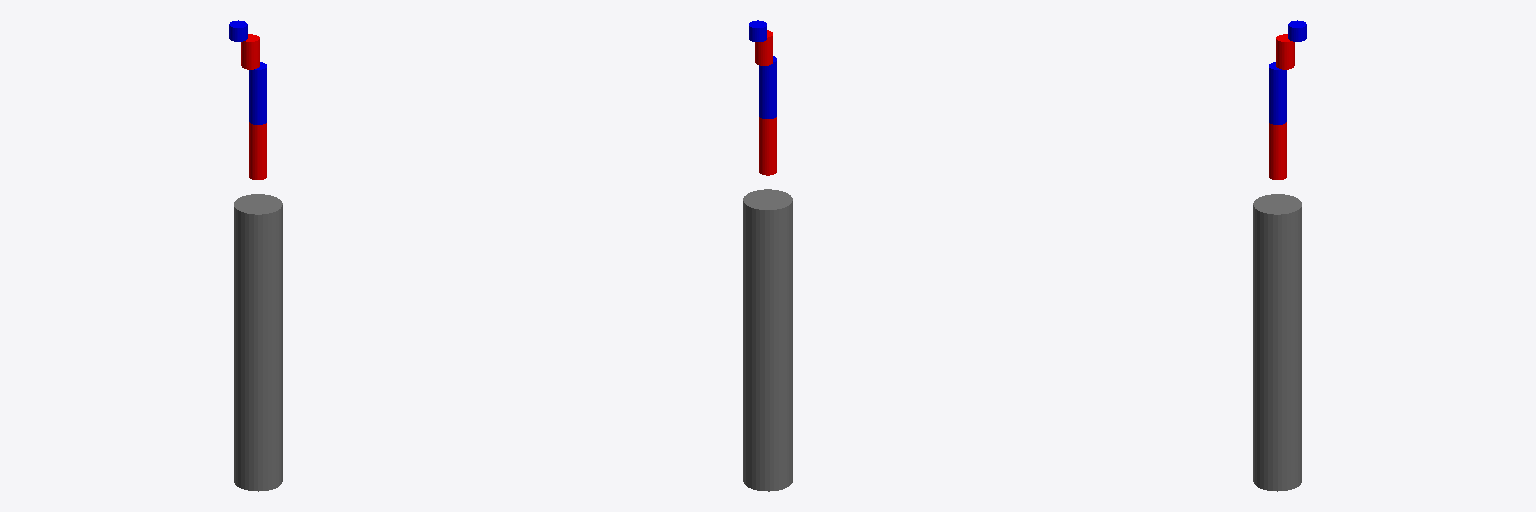
robot.urdf — generated_robot:
<?xml version="1.0"?>
<robot name="generated_robot">
  
  <mujoco>
    <compiler discardvisual="false"/>
  </mujoco>
  
  <link name="world"/>
  
  <joint name="world_to_body" type="fixed">
    <parent link="world"/>
    <child link="body"/>
    <origin xyz="0 0 1.0" rpy="0 0 0"/>
  </joint>
  
  <link name="body">
    <visual>
      <origin xyz="0 0 -0.5" rpy="0 0 0"/>
      <geometry>
        <cylinder radius="0.0800" length="1.0000"/>
      </geometry>
      <material name="grey">
        <color rgba="0.5 0.5 0.5 1.0"/>
      </material>
    </visual>
    <inertial>
      <mass value="10.0"/>
      <inertia ixx="0.01" ixy="0" ixz="0" iyy="0.01" iyz="0" izz="0.01"/>
    </inertial>
  </link>
  
  <joint name="joint_0" type="revolute">
    <parent link="body"/>
    <child link="link_0"/>
    <origin xyz="0.0 0.0 0.1" rpy="0.0000 0.0000 0.0000"/>
    <axis xyz="0 1 0"/>
    <limit lower="-3.1416" upper="3.1416" effort="10" velocity="1"/>
  </joint>
  <joint name="joint_1" type="revolute">
    <parent link="link_0"/>
    <child link="link_1"/>
    <origin xyz="0.0 0.0 0.2" rpy="0.0000 0.0000 0.0000"/>
    <axis xyz="0 0 1"/>
    <limit lower="-3.1416" upper="3.1416" effort="10" velocity="1"/>
  </joint>
  <joint name="joint_2" type="revolute">
    <parent link="link_1"/>
    <child link="link_2"/>
    <origin xyz="0.0 0.0 0.2" rpy="0.0000 0.0000 0.0000"/>
    <axis xyz="0 1 0"/>
    <limit lower="-3.1416" upper="3.1416" effort="10" velocity="1"/>
  </joint>
  <joint name="joint_3" type="revolute">
    <parent link="link_2"/>
    <child link="link_3"/>
    <origin xyz="0.0 0.05 0.1" rpy="0.0000 0.0000 0.0000"/>
    <axis xyz="0 0 1"/>
    <limit lower="-3.1416" upper="3.1416" effort="10" velocity="1"/>
  </joint>
  <joint name="joint_4" type="revolute">
    <parent link="link_3"/>
    <child link="link_4"/>
    <origin xyz="0.0 0.03 0.05" rpy="0.0000 0.0000 0.0000"/>
    <axis xyz="0 1 0"/>
    <limit lower="-3.1416" upper="3.1416" effort="10" velocity="1"/>
  </joint>
  
  <link name="link_0">
    <visual>
      <origin xyz="0.0000 0.0000 0.1000" rpy="0.0000 0.0000 0.0000"/>
      <geometry>
        <cylinder radius="0.0300" length="0.2000"/>
      </geometry>
      <material name="mat_0">
        <color rgba="1 0 0 1.0"/>
      </material>
    </visual>
    <inertial>
      <mass value="1.0"/>
      <inertia ixx="0.01" ixy="0" ixz="0" iyy="0.01" iyz="0" izz="0.01"/>
    </inertial>
  </link>
  <link name="link_1">
    <visual>
      <origin xyz="0.0000 0.0000 0.1000" rpy="0.0000 0.0000 0.0000"/>
      <geometry>
        <cylinder radius="0.0300" length="0.2000"/>
      </geometry>
      <material name="mat_1">
        <color rgba="0 0 1 1.0"/>
      </material>
    </visual>
    <inertial>
      <mass value="1.0"/>
      <inertia ixx="0.01" ixy="0" ixz="0" iyy="0.01" iyz="0" izz="0.01"/>
    </inertial>
  </link>
  <link name="link_2">
    <visual>
      <origin xyz="0.0000 0.0250 0.0500" rpy="0.0000 0.0000 0.0000"/>
      <geometry>
        <cylinder radius="0.0300" length="0.1000"/>
      </geometry>
      <material name="mat_2">
        <color rgba="1 0 0 1.0"/>
      </material>
    </visual>
    <inertial>
      <mass value="1.0"/>
      <inertia ixx="0.01" ixy="0" ixz="0" iyy="0.01" iyz="0" izz="0.01"/>
    </inertial>
  </link>
  <link name="link_3">
    <visual>
      <origin xyz="0.0000 0.0150 0.0250" rpy="0.0000 0.0000 0.0000"/>
      <geometry>
        <cylinder radius="0.0300" length="0.0500"/>
      </geometry>
      <material name="mat_3">
        <color rgba="0 0 1 1.0"/>
      </material>
    </visual>
    <inertial>
      <mass value="1.0"/>
      <inertia ixx="0.01" ixy="0" ixz="0" iyy="0.01" iyz="0" izz="0.01"/>
    </inertial>
  </link>
  <link name="link_4">
    <inertial>
      <mass value="1.0"/>
      <inertia ixx="0.01" ixy="0" ixz="0" iyy="0.01" iyz="0" izz="0.01"/>
    </inertial>
  </link>
</robot>

--- Facts derived from the render (not from the file) ---
3 views of the same robot in one strip: view 1: azimuth 90°, elevation 25°; view 2: azimuth 150°, elevation 25°; view 3: azimuth 270°, elevation 25° (orthographic).
Model generated_robot with 7 links and 6 joints (5 revolute, 1 fixed), rooted at world, posed every joint at zero.
Links seen in each view (by area): view 1: body, link_1, link_0, link_2; view 2: body, link_0, link_1; view 3: body, link_1, link_0, link_2.
Boxes of the visible links, x1,y1,x2,y2 form: body: (234, 194, 282, 491); link_1: (249, 62, 266, 124); link_0: (249, 122, 266, 179); link_2: (241, 34, 259, 69); body: (743, 189, 792, 491); link_0: (759, 117, 776, 175); link_1: (759, 56, 776, 118); body: (1253, 194, 1301, 491); link_1: (1269, 62, 1286, 124); link_0: (1269, 122, 1286, 179); link_2: (1276, 34, 1294, 69).
Bounding box of the posed robot: 0.16 × 0.175 × 1.65 m (x, y, z).
Geometry: primitives only (box / cylinder / sphere), no mesh files.
